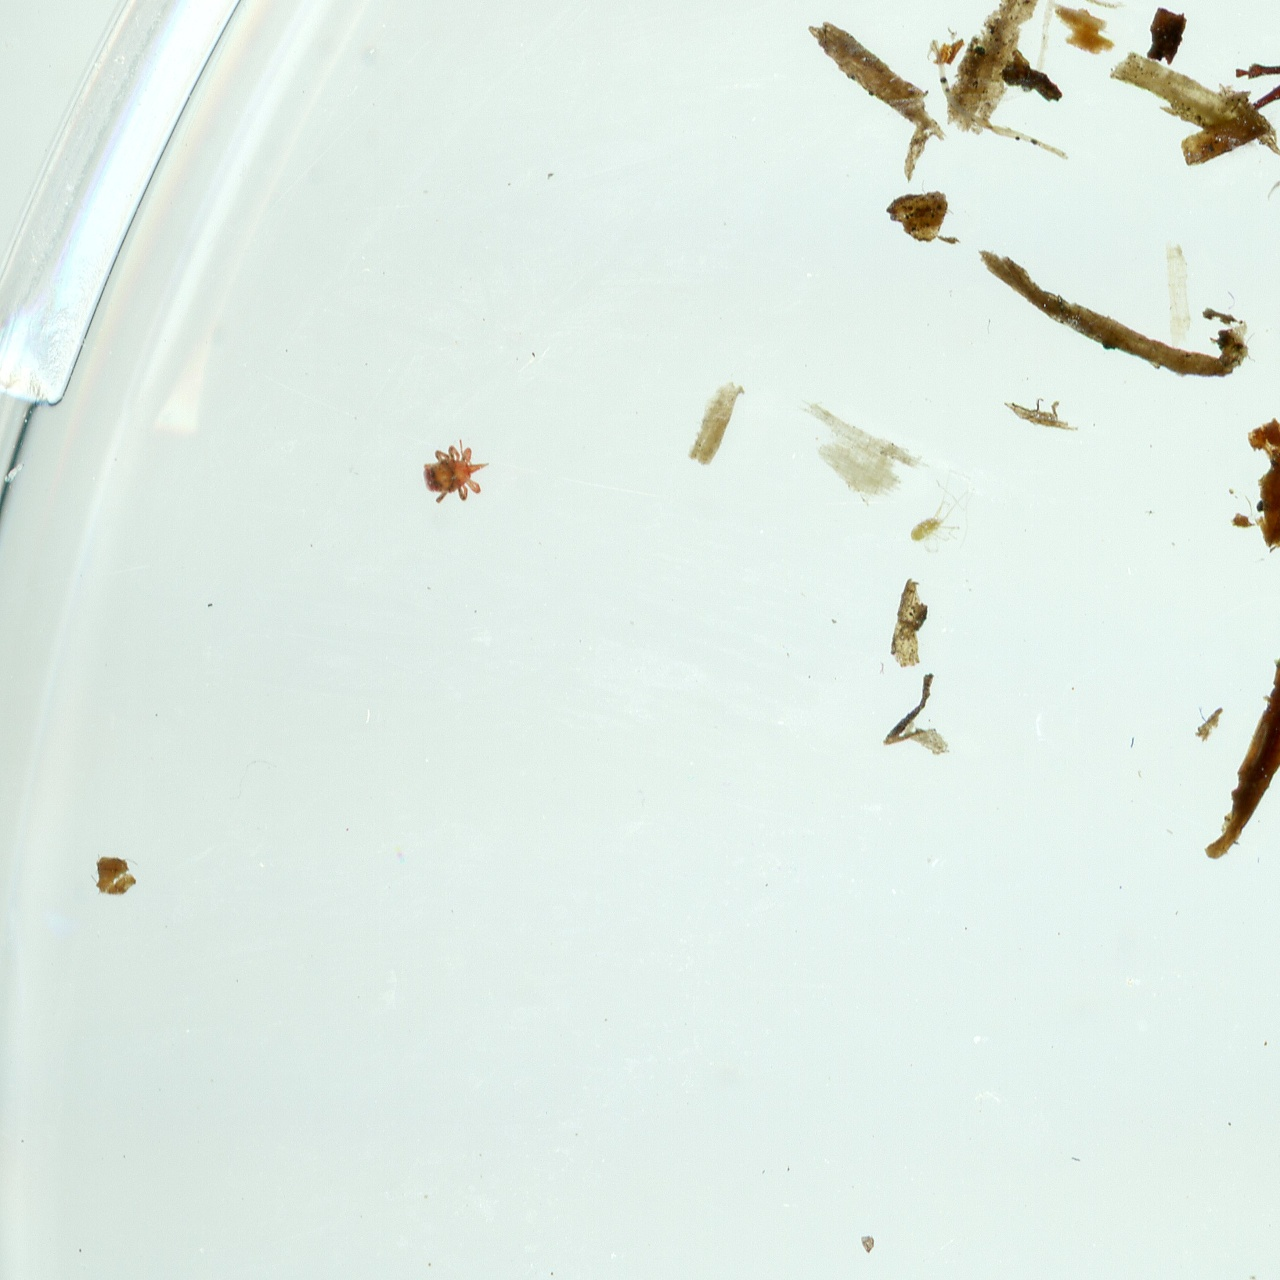arthropod: (907, 463, 980, 558), (420, 437, 491, 505), (1261, 137, 1280, 205)
